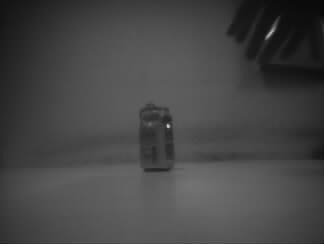Tin can: (139, 104, 175, 171)
